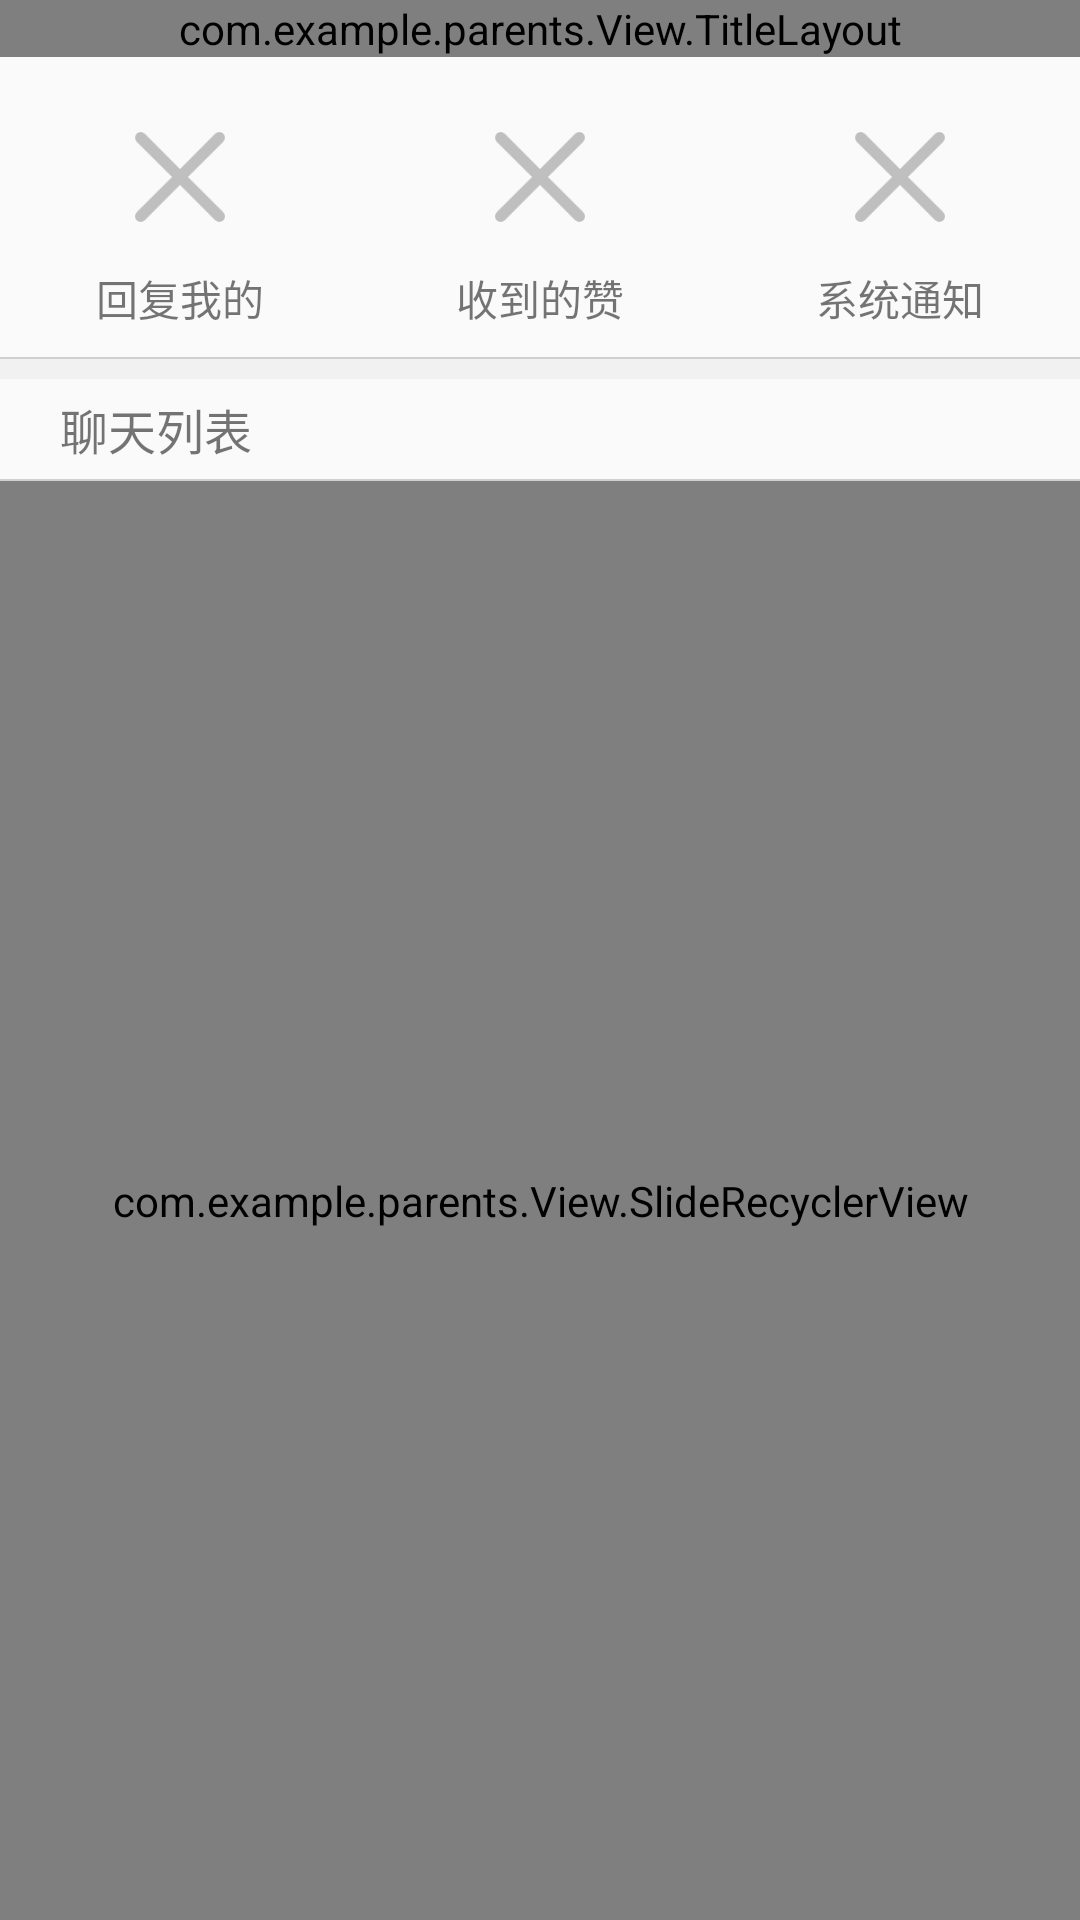

Locate icon controls on the screen. Image size 1080*1920, boxes as {"x1": x1, "y1": y1, "x2": x2, "y2": y2}.
cansel: {"x1": 135, "y1": 132, "x2": 225, "y2": 222}, {"x1": 495, "y1": 132, "x2": 585, "y2": 222}, {"x1": 855, "y1": 132, "x2": 945, "y2": 222}
